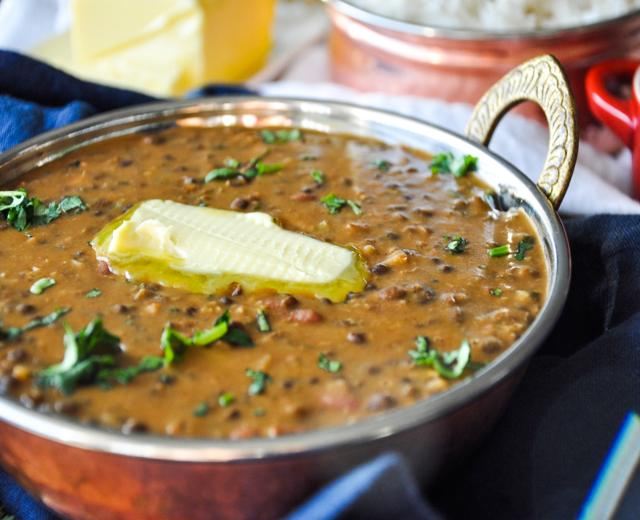dal makhni: (0, 97, 570, 520)
